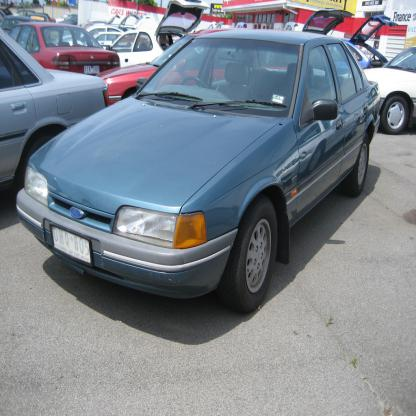Car: (0, 0, 416, 185)
